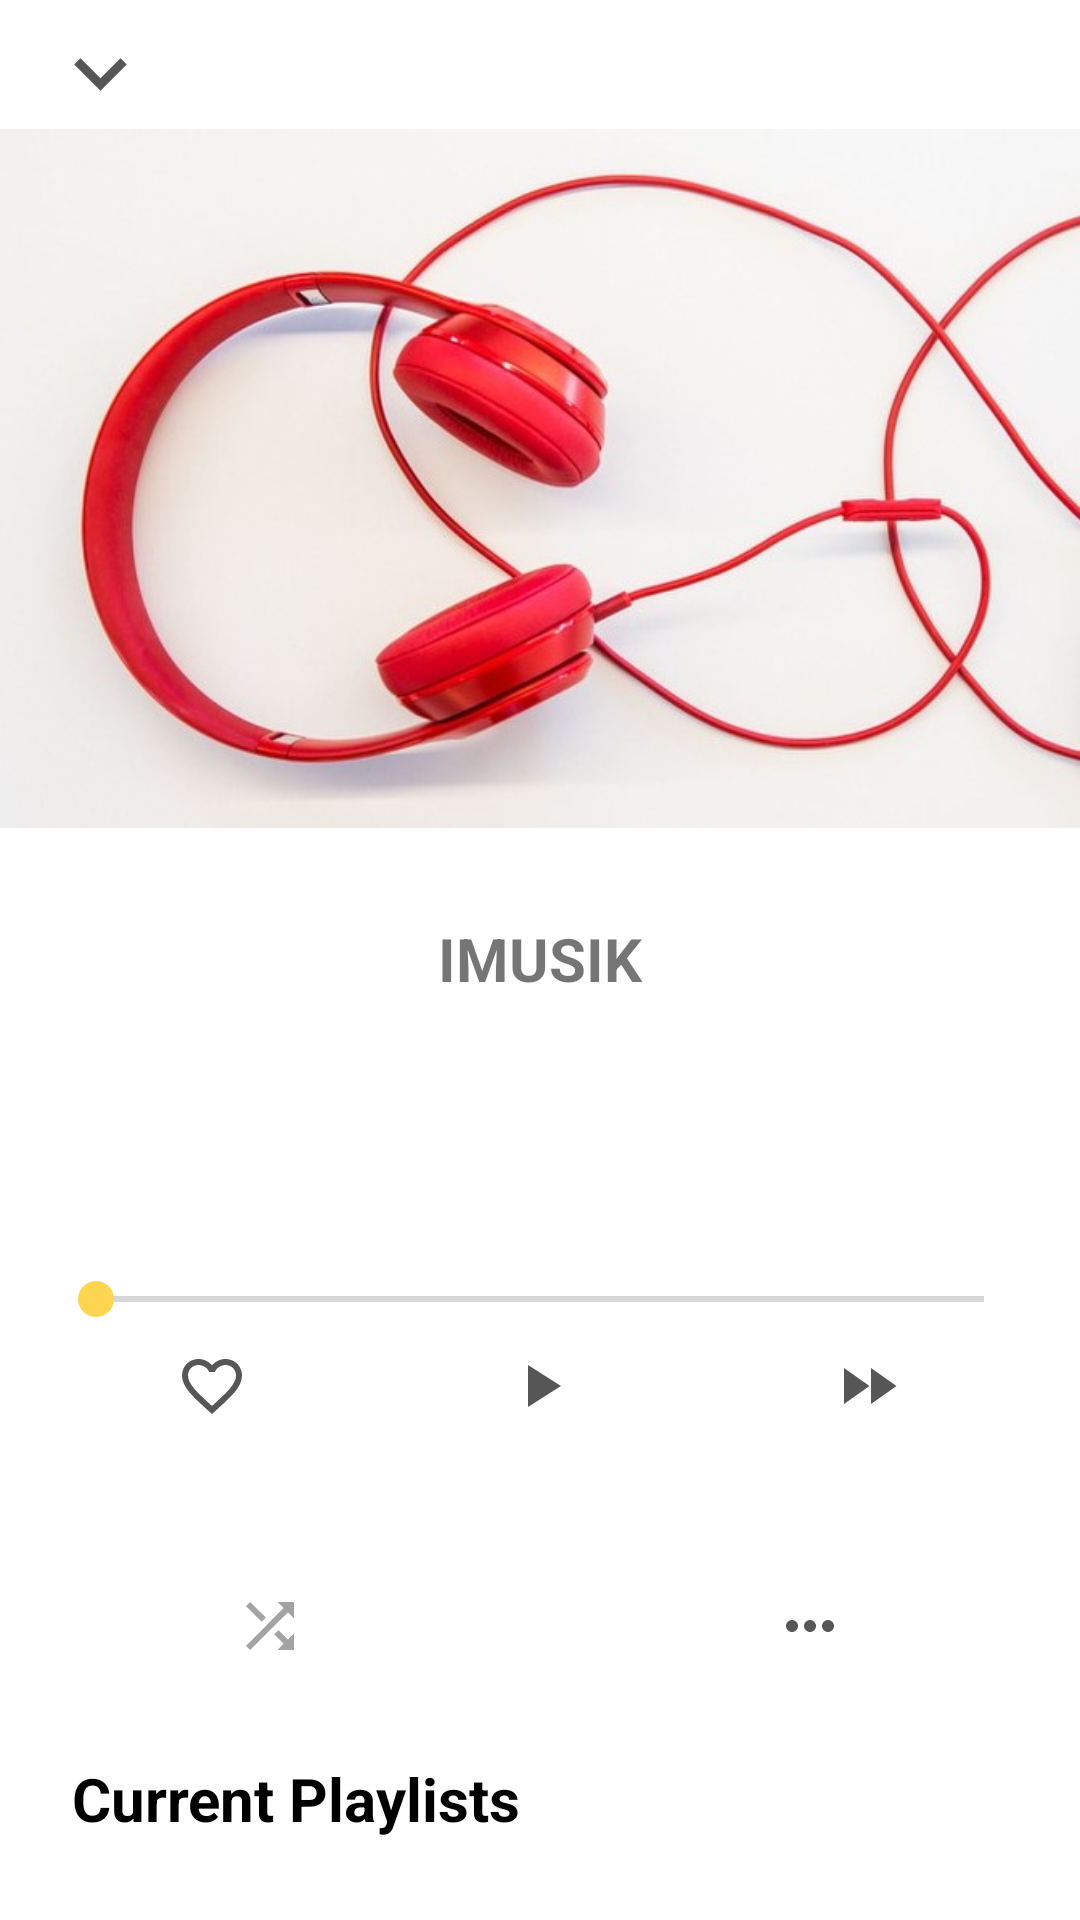

Where to tap for icons on this 1080px×1920px app screen, as [x,y]:
close down: [100,74]
fast forward: [870,1386]
favorite border: [212,1386]
more setting: [810,1626]
play arrow: [544,1386]
shuffle off: [270,1626]
